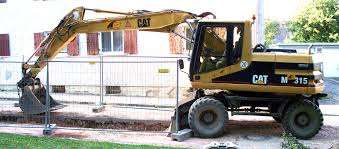excavator: (17, 7, 328, 138)
